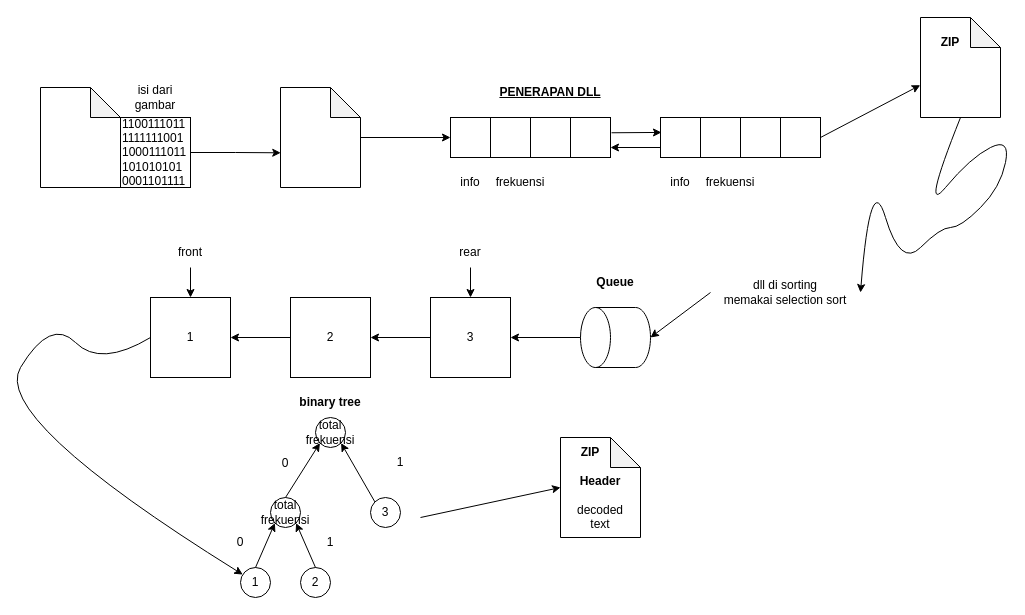
Some shapes in this 1025 by 615 pixel diagram are drawn without their labels. Here are the shapes that lost their labels. From the top down, the box of each, then its label:
(920, 16, 1000, 118): HEADER
(40, 86, 120, 188): kurisu.png
(280, 86, 360, 188): kurisu_hexa.txt
